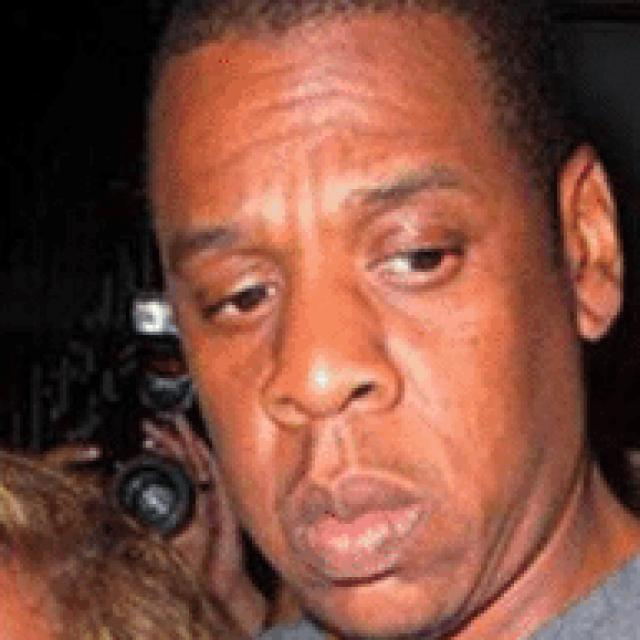Depress: (148, 22, 589, 637)
